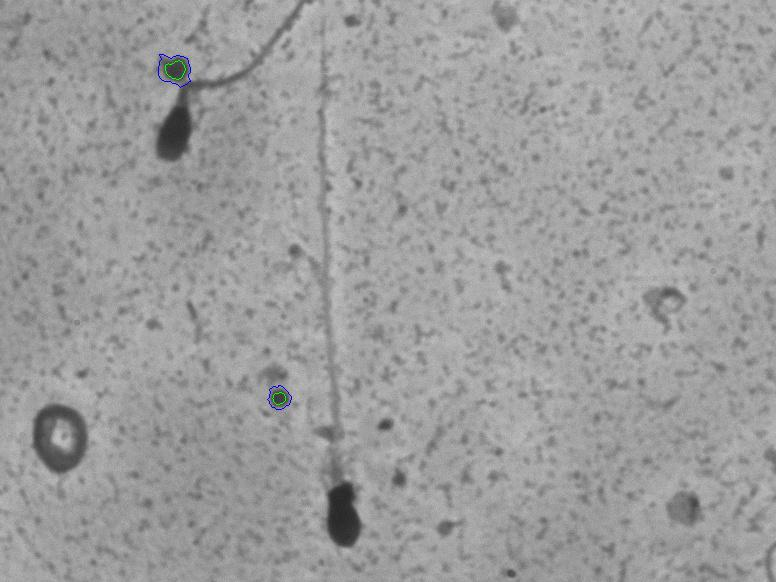Abnormal: (288, 65, 376, 557), (146, 12, 280, 191)
